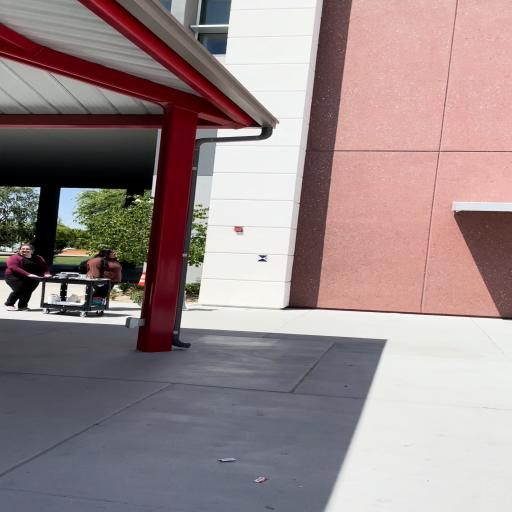target6: (258, 255, 268, 262)
